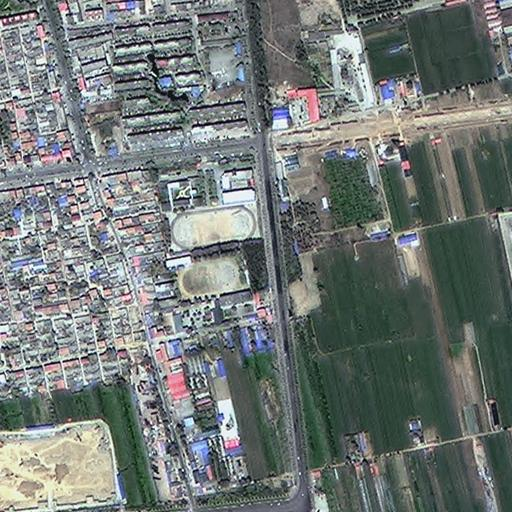school: (157, 163, 259, 248), (164, 251, 260, 326)
